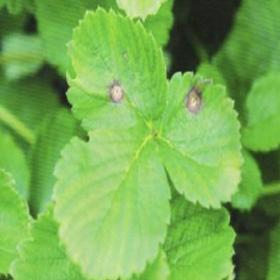Leaf Spot: (65, 6, 168, 135), (158, 70, 245, 210)
